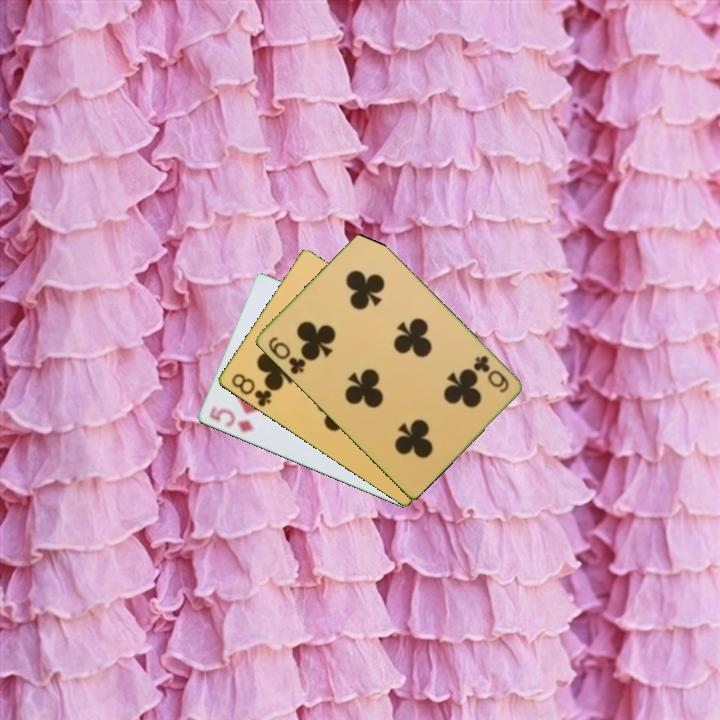5d: (205, 401, 256, 436)
6c: (264, 333, 308, 377), (469, 352, 512, 396)
8c: (227, 370, 274, 410)
